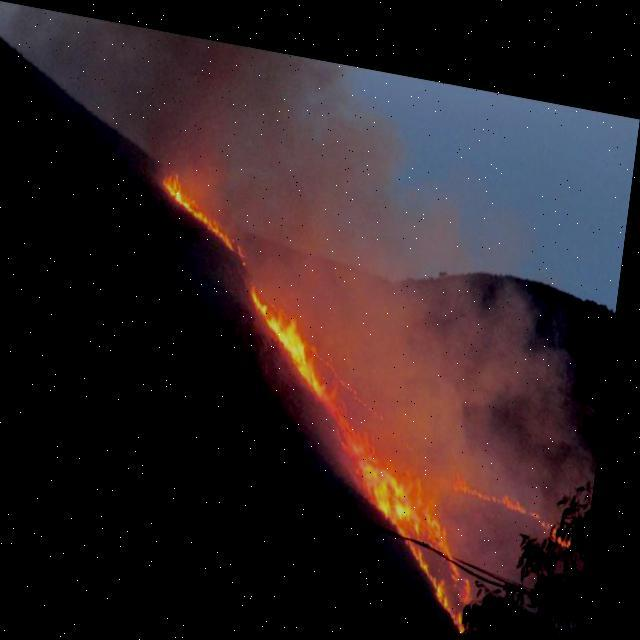Fire: (225, 284, 591, 615), (461, 457, 587, 525), (157, 170, 251, 248)
